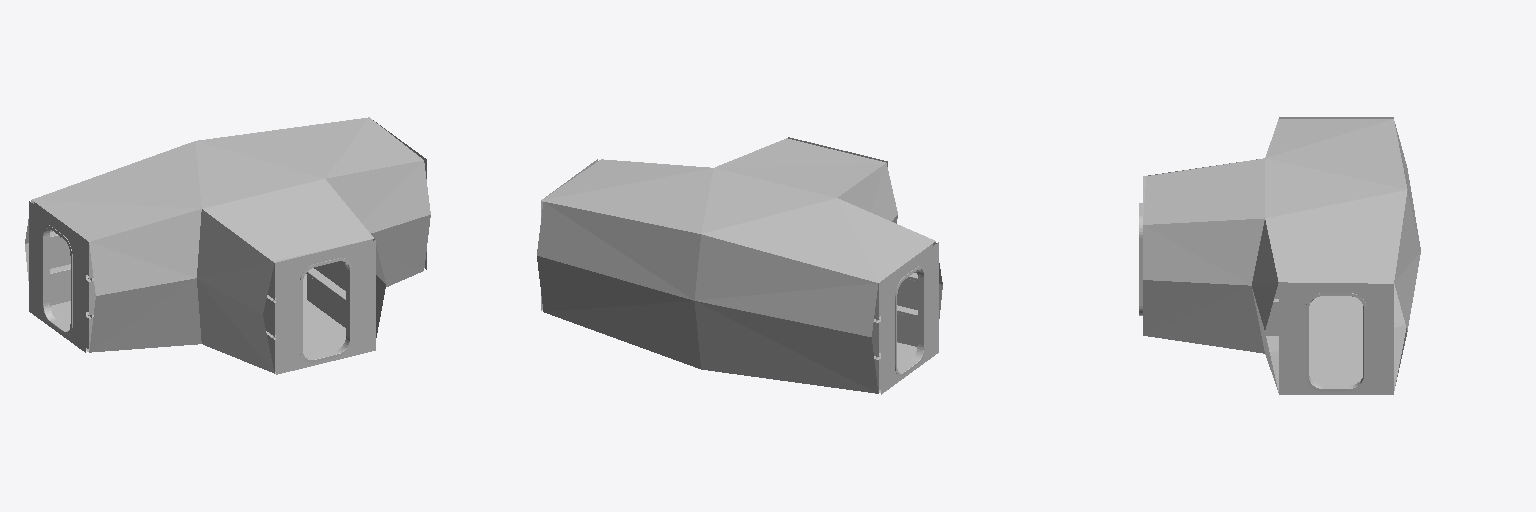
File: Fork3.obj
The picture shows the model from 3 angles: view 1: azimuth 30°, elevation 25°; view 2: azimuth 150°, elevation 25°; view 3: azimuth 270°, elevation 25°; orthographic projection.
Visible parts, largest first — view 1: Cube.043_Cube.050; view 2: Cube.043_Cube.050; view 3: Cube.043_Cube.050.
Part boxes in pixels (x1,y1,x2,y2): Cube.043_Cube.050: (25,117,430,374); Cube.043_Cube.050: (537,137,942,394); Cube.043_Cube.050: (1139,117,1420,394).
Bounding box in the file's own units: 29.1 × 11 × 20.8.